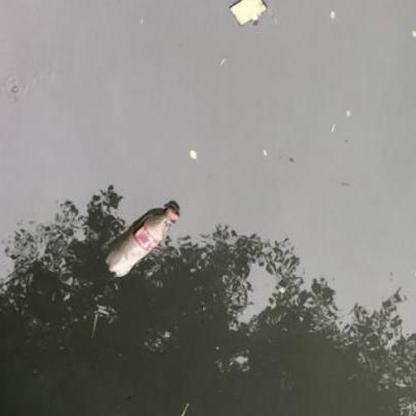plastic bottle: (104, 205, 179, 279)
